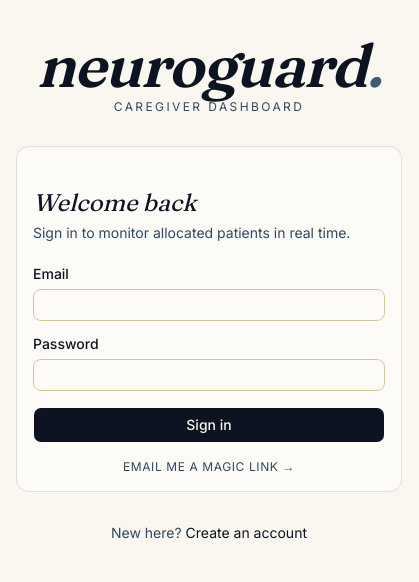
Test: LoginPage › renders the inline error when signInWithPassword returns an error
Step 1. Type "a@b.com" into the field labelled "Email" → (209, 305), box left=33, top=289, right=385, bottom=321
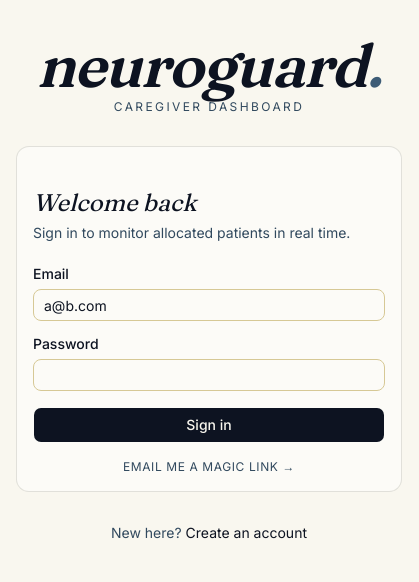
Step 2. Type "wrong" into the password field labelled "Password" → (209, 375), box left=33, top=359, right=385, bottom=391
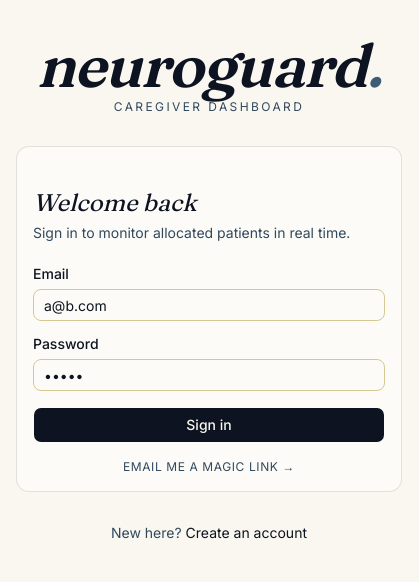
Step 3. Click the button "Sign in" → (209, 425), box left=33, top=407, right=385, bottom=443
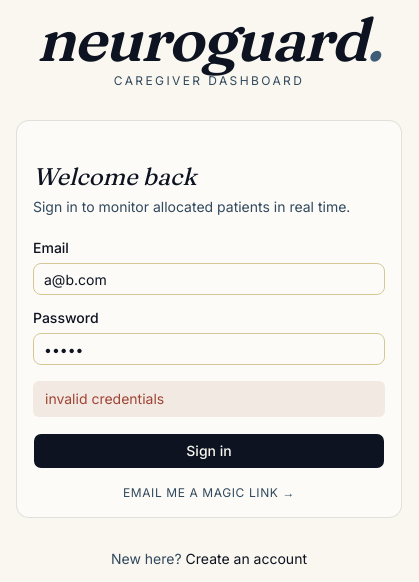
Expected: the text "invalid credentials" is shown, left=33, top=381, right=385, bottom=417
